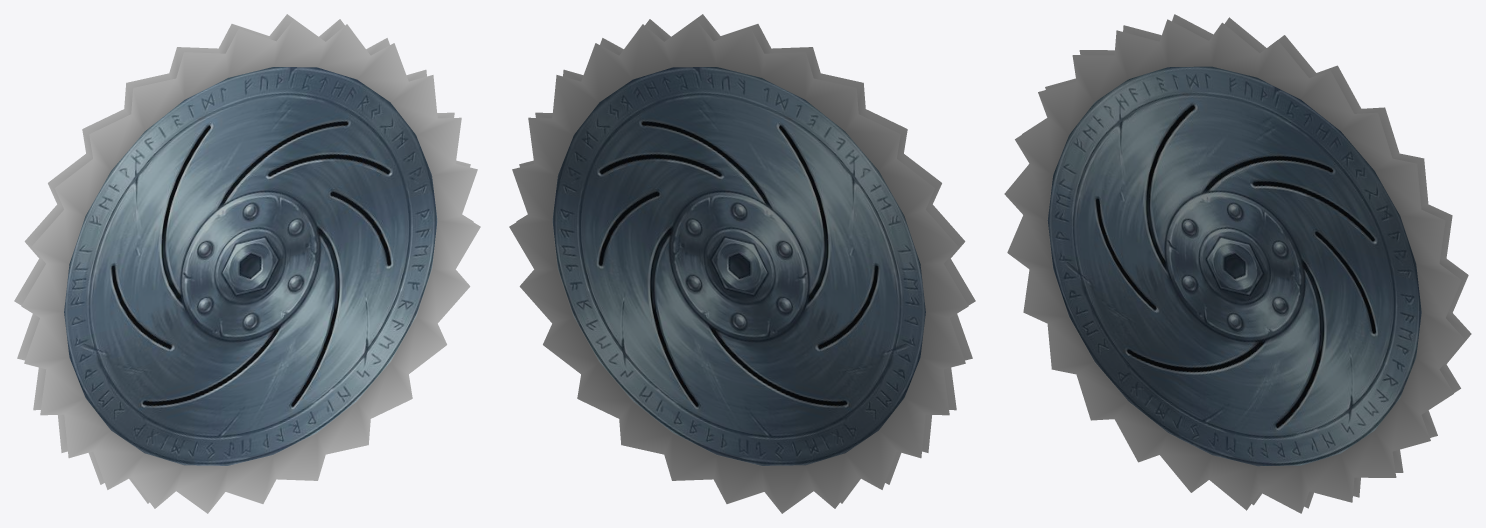
Rendered from saw-blade.glb.
3 views of the same model, side by side, from view 1: azimuth 30°, elevation 25°; view 2: azimuth 150°, elevation 25°; view 3: azimuth 330°, elevation 25° (orthographic).
Visible parts, largest first — view 1: saw-blade; view 2: saw-blade; view 3: saw-blade.
Boxes of the visible parts, <box> form: saw-blade: <box>14,14,480,513</box>; saw-blade: <box>509,14,975,513</box>; saw-blade: <box>1004,14,1471,513</box>.
Size of the model in its own units: 1.06 by 1.06 by 0.028.
Materials: 2 (1 with a texture image).
